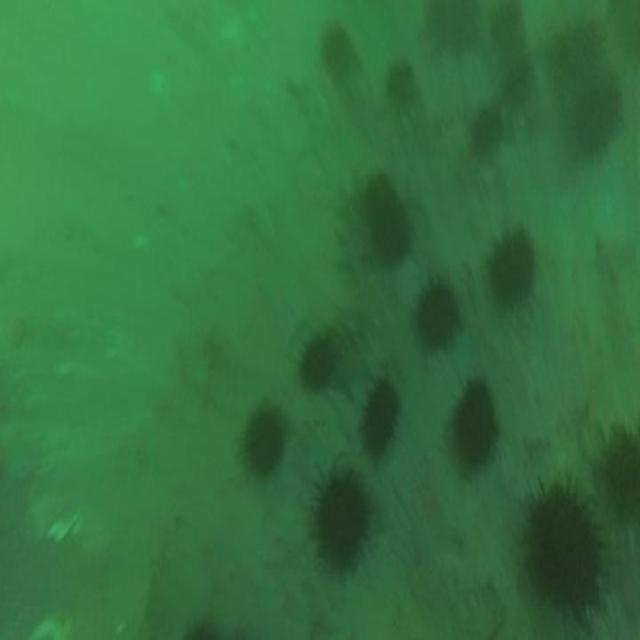echinus: (527, 484, 598, 610), (314, 476, 364, 562), (364, 176, 410, 266), (453, 381, 496, 472), (488, 228, 532, 310), (575, 81, 619, 161), (422, 0, 480, 57), (361, 378, 399, 463), (608, 424, 640, 516), (416, 281, 456, 351), (244, 411, 284, 477), (496, 52, 533, 109), (468, 101, 502, 160), (298, 338, 333, 394), (320, 25, 351, 73), (386, 63, 416, 103)
starfish: (396, 452, 466, 558), (596, 232, 626, 278)
